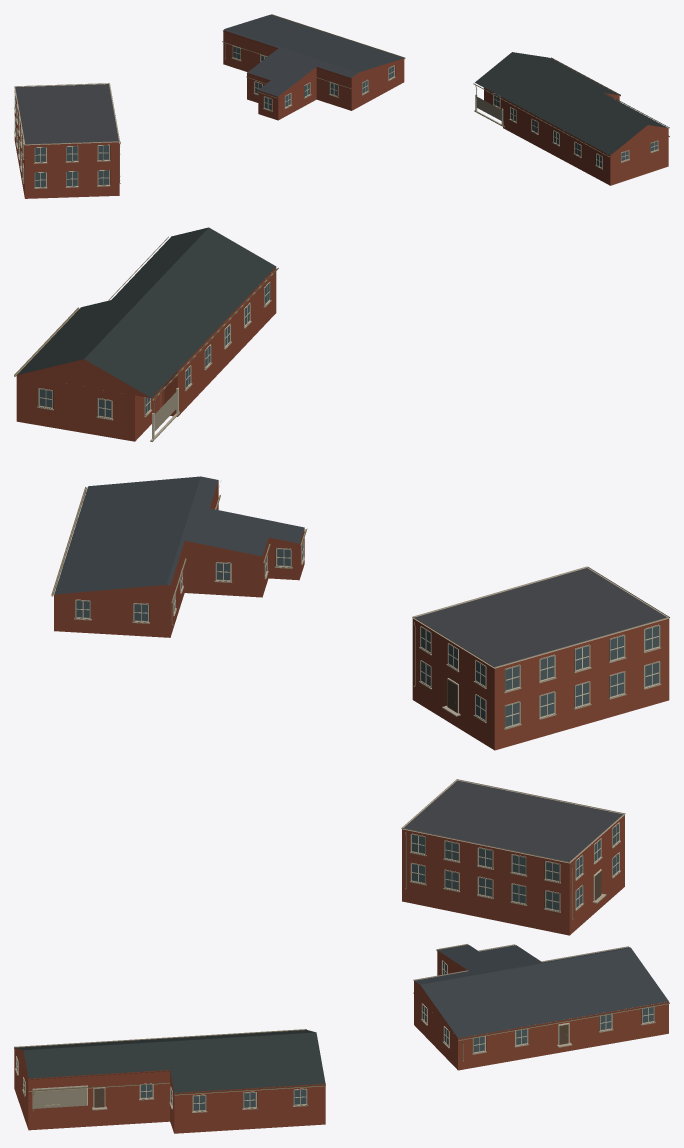
The picture shows the model from 3 angles, top to bottom: view 1: azimuth 30°, elevation 25°; view 2: azimuth 150°, elevation 25°; view 3: azimuth 270°, elevation 25°; orthographic projection. The views are drawn at different scales.
Parts seen in each view (by area): view 1: -5_-2_623906093_4; view 2: -5_-2_623906093_4; view 3: -5_-2_623906093_4.
Boxes of the visible parts, <box> form: -5_-2_623906093_4: <box>14,14,669,198</box>; -5_-2_623906093_4: <box>14,227,669,750</box>; -5_-2_623906093_4: <box>14,779,669,1133</box>.
Size of the model in its own units: 78.43 by 12.03 by 67.21.
